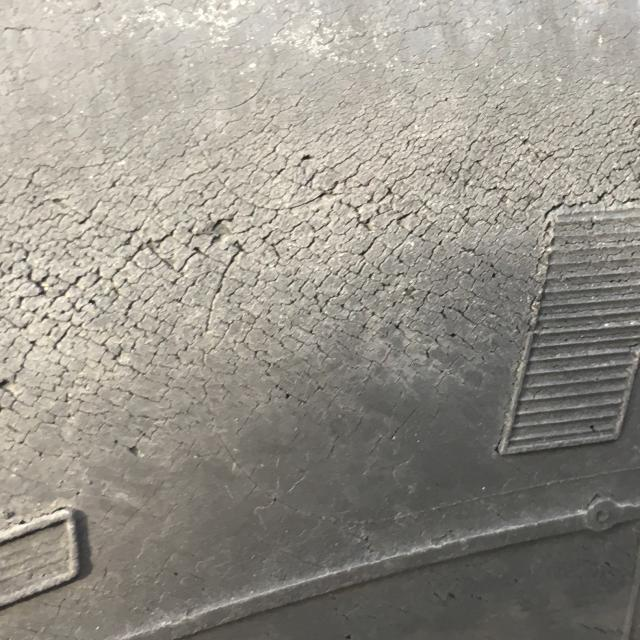Cracks: (0, 0, 640, 559)
